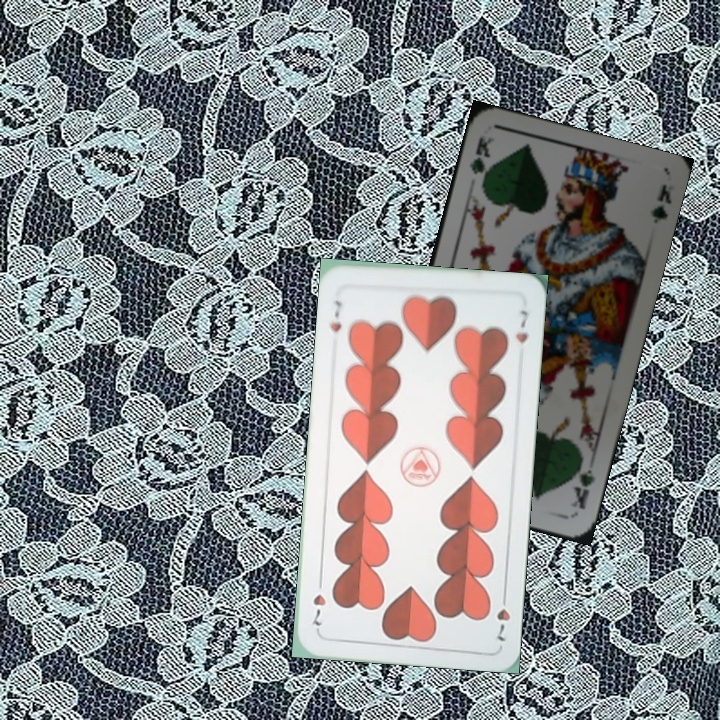GK: (465, 132, 497, 189), (566, 455, 598, 512)
H7: (492, 587, 513, 644), (326, 296, 345, 335)
